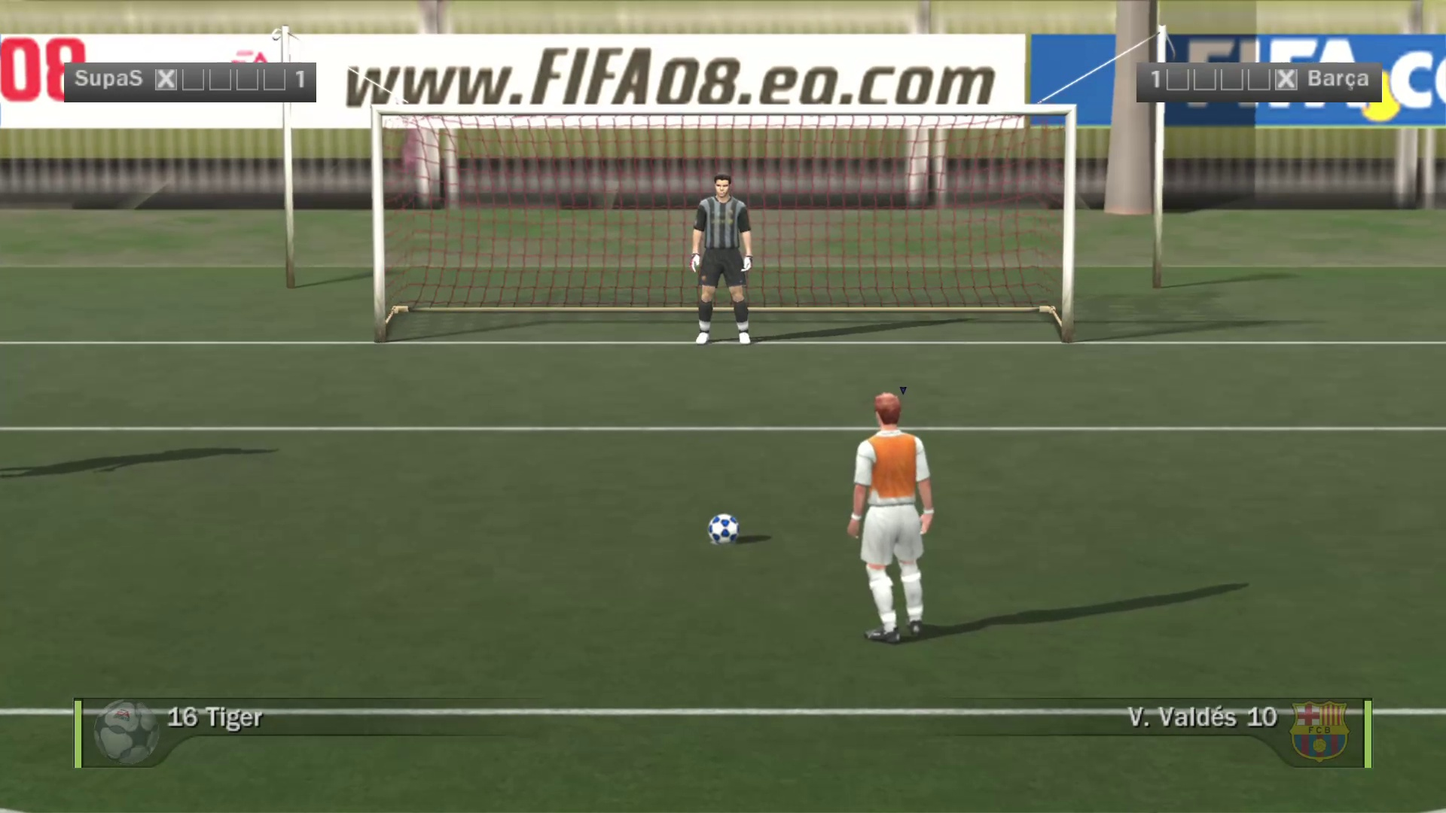ball: (689, 489, 724, 528)
goal_post: (46, 0, 722, 231)
keeper: (658, 86, 723, 258)
kicker: (804, 267, 892, 515)
